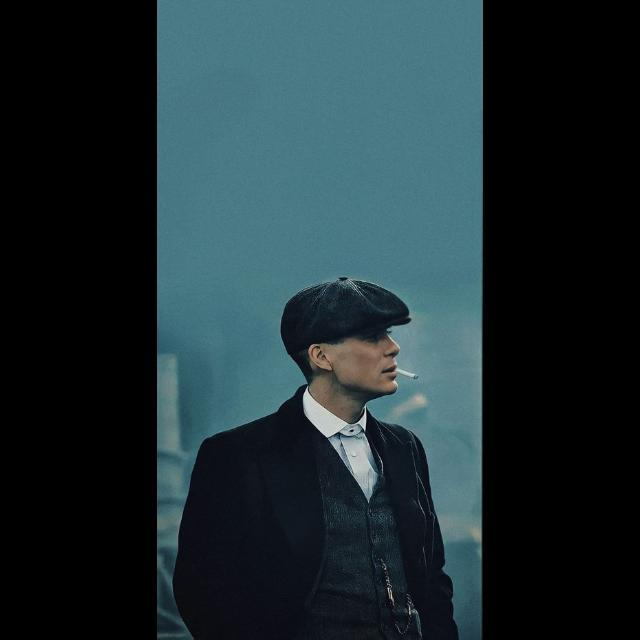rokok: (394, 360, 420, 384)
